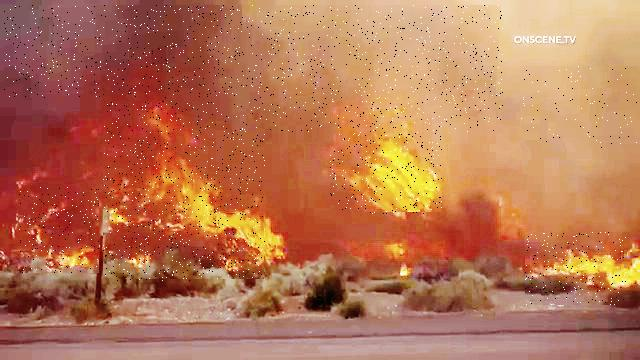fire: (103, 102, 265, 282), (330, 123, 442, 215), (526, 232, 627, 305), (19, 186, 99, 273)
smoke: (246, 6, 503, 133), (5, 6, 245, 99), (521, 67, 640, 149)
